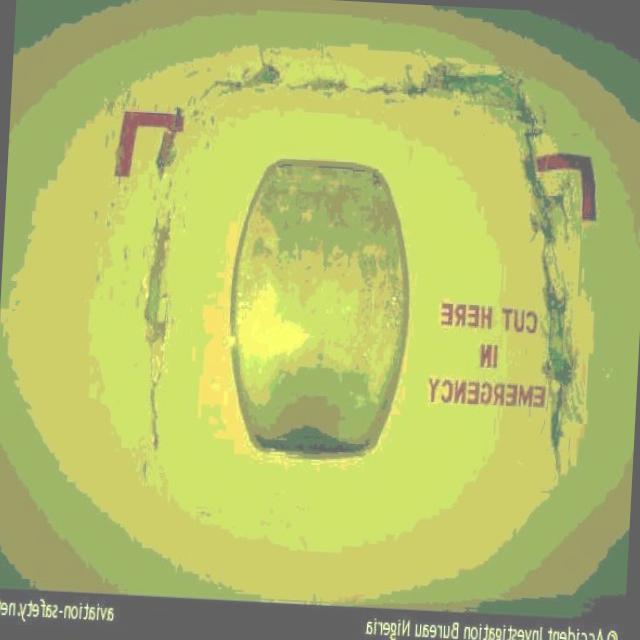crack: (498, 137, 594, 479), (192, 51, 540, 133), (128, 177, 180, 477)
